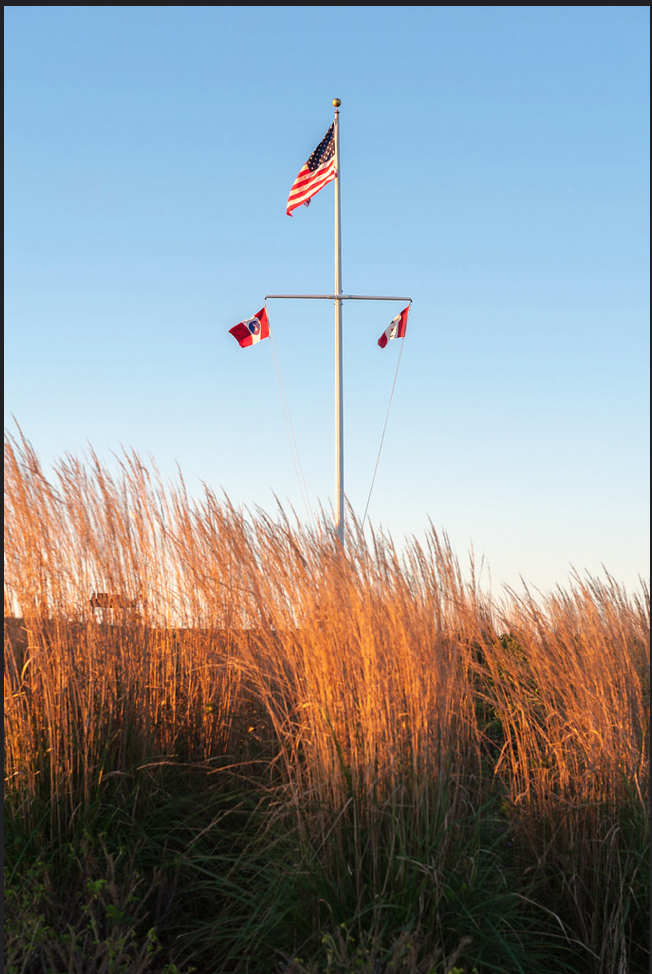Flag: (284, 115, 343, 218), (227, 304, 275, 347), (375, 304, 411, 349)
